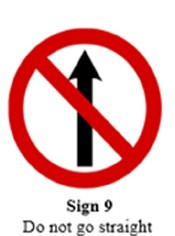Traffic signal: (9, 27, 162, 189)
